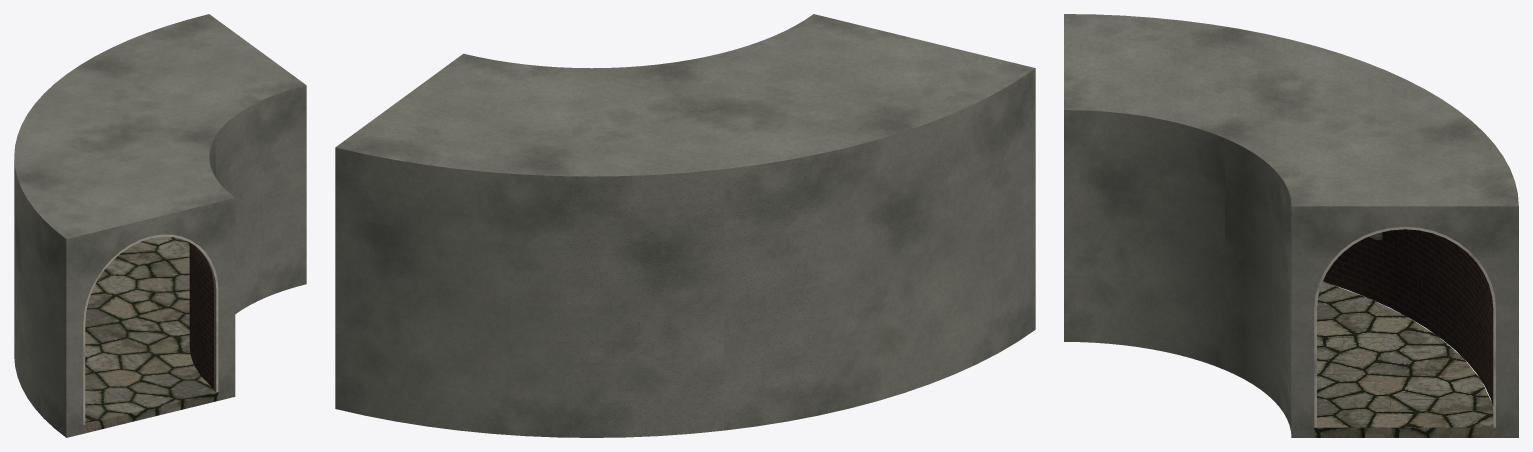
File: TunnelCurve.fbx
The picture shows the model from 3 angles, left to right: view 1: azimuth 30°, elevation 25°; view 2: azimuth 150°, elevation 25°; view 3: azimuth 270°, elevation 25°; orthographic projection. The views are drawn at different scales.
Parts seen in each view (by area): view 1: TunnelCurve_Wall, TunnelCurve_Floor, TunnelCurve_Main; view 2: TunnelCurve_Wall; view 3: TunnelCurve_Wall, TunnelCurve_Floor, TunnelCurve_Main.
Part boxes in pixels (x1,y1,x2,y2): TunnelCurve_Wall: (14,14,306,437); TunnelCurve_Floor: (83,236,218,433); TunnelCurve_Main: (83,234,218,424); TunnelCurve_Wall: (335,14,1035,437); TunnelCurve_Wall: (1064,14,1518,437); TunnelCurve_Floor: (1314,282,1495,437); TunnelCurve_Main: (1314,226,1495,427).
Bounding box in the file's own units: 1600 × 900 × 1600.
